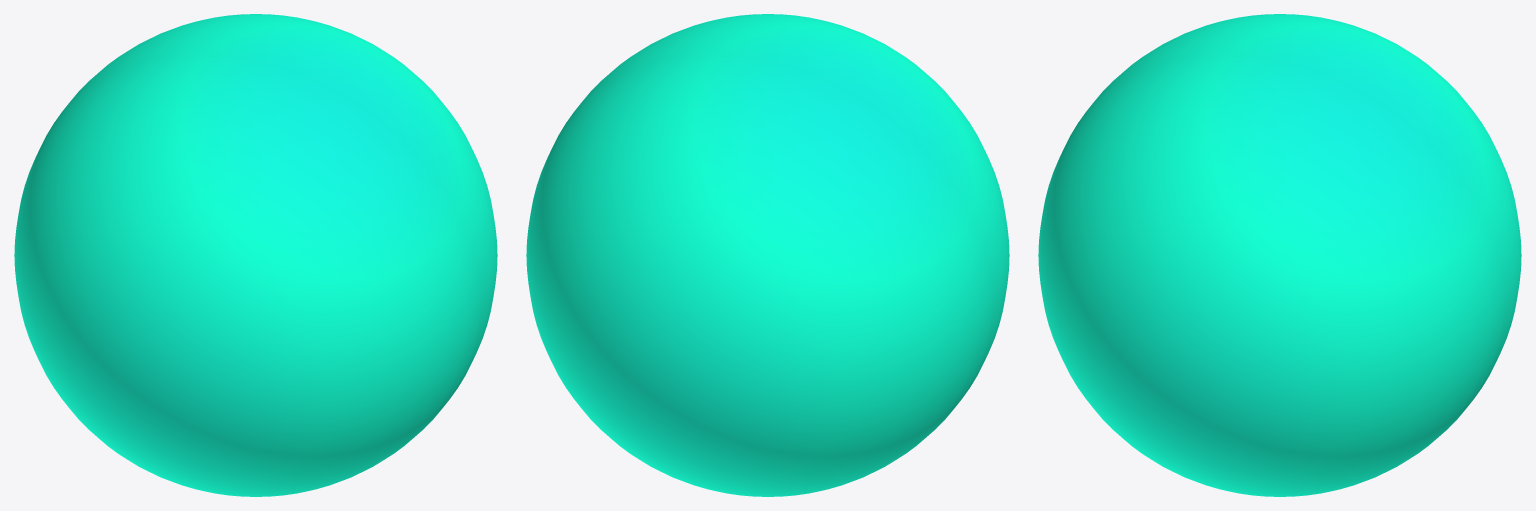
Rendered from earthsphere.glb.
The picture shows the model from 3 angles, left to right: view 1: azimuth 30°, elevation 25°; view 2: azimuth 150°, elevation 25°; view 3: azimuth 270°, elevation 25°; orthographic projection.
Visible parts, largest first — view 1: Sphere; view 2: Sphere; view 3: Sphere.
Part boxes in pixels (<box>): Sphere: <box>14,14,497,496</box>; Sphere: <box>526,14,1009,496</box>; Sphere: <box>1038,14,1521,496</box>.
Bounding box in the file's own units: 0.2 × 0.2 × 0.2.
